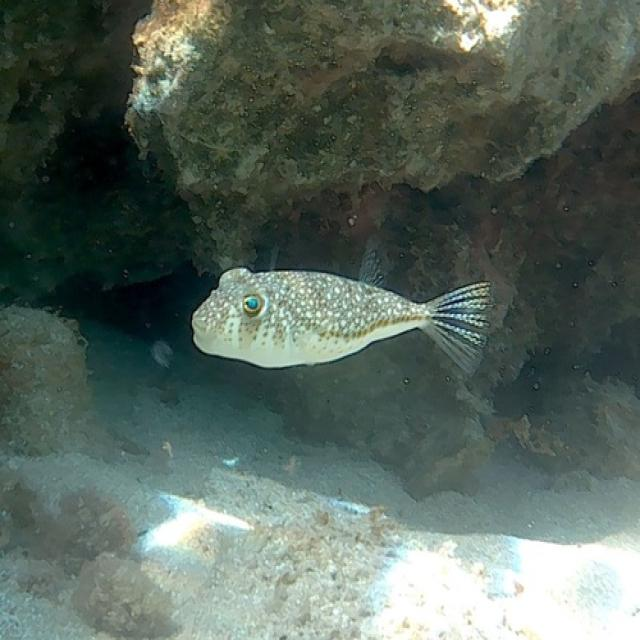Balik: (192, 268, 491, 372)
